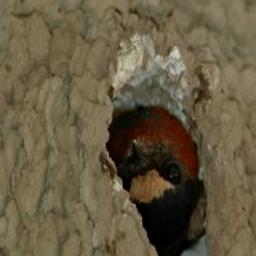Swallow: (106, 105, 201, 256)
